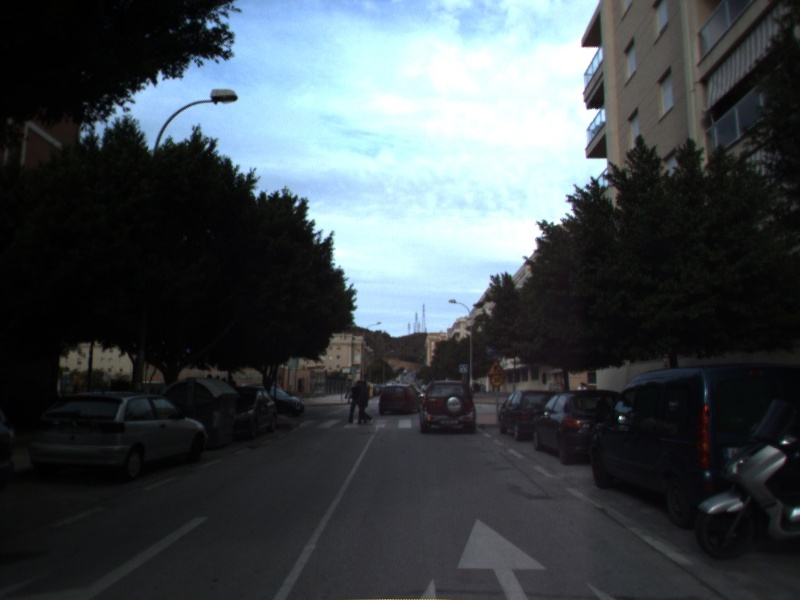STRAIGHT: (455, 515, 551, 600)
